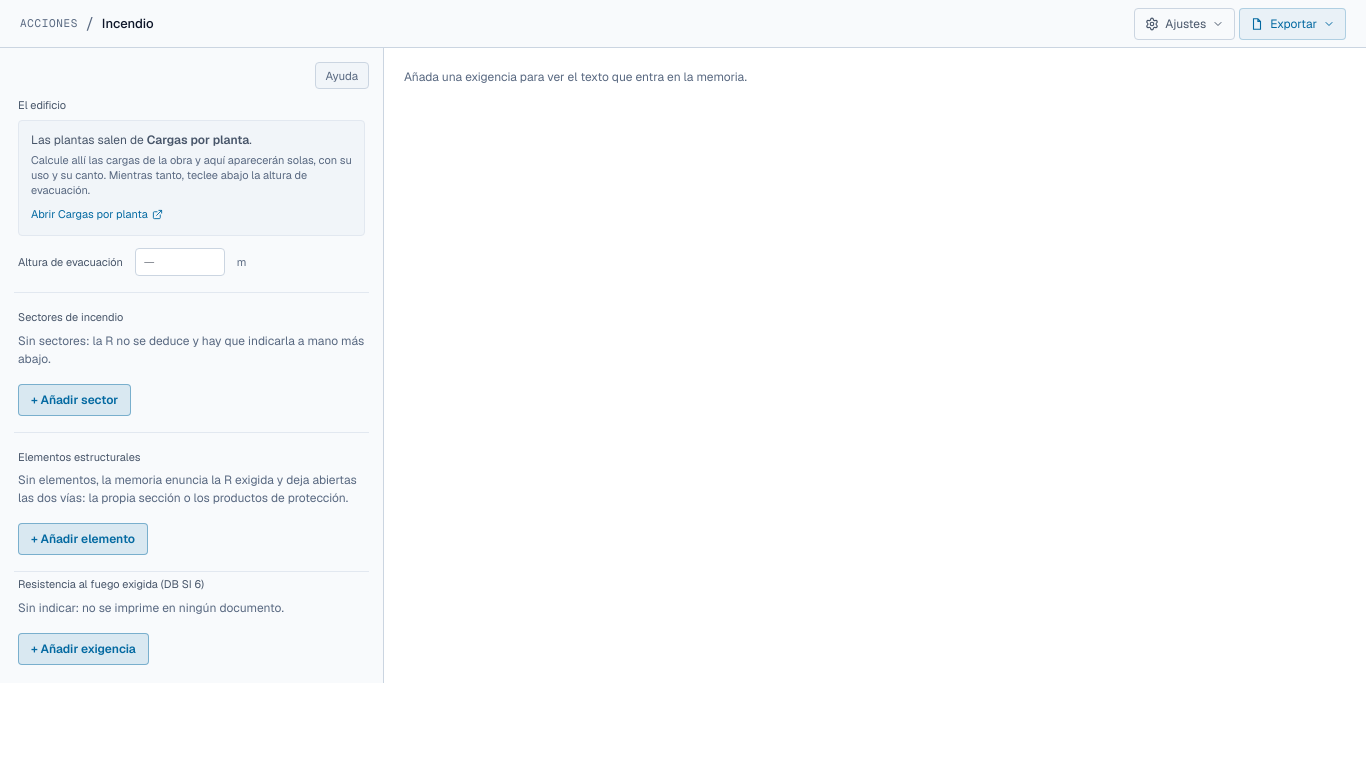
Test: las exigencias de resistencia al fuego › el sótano, las plantas y la cubierta pueden pedir R distintas a la vez
Step 1. Click the button "+ Añadir exigencia" → {"x": 83, "y": 649}, box 18,633 -> 149,665
(page scrolled)
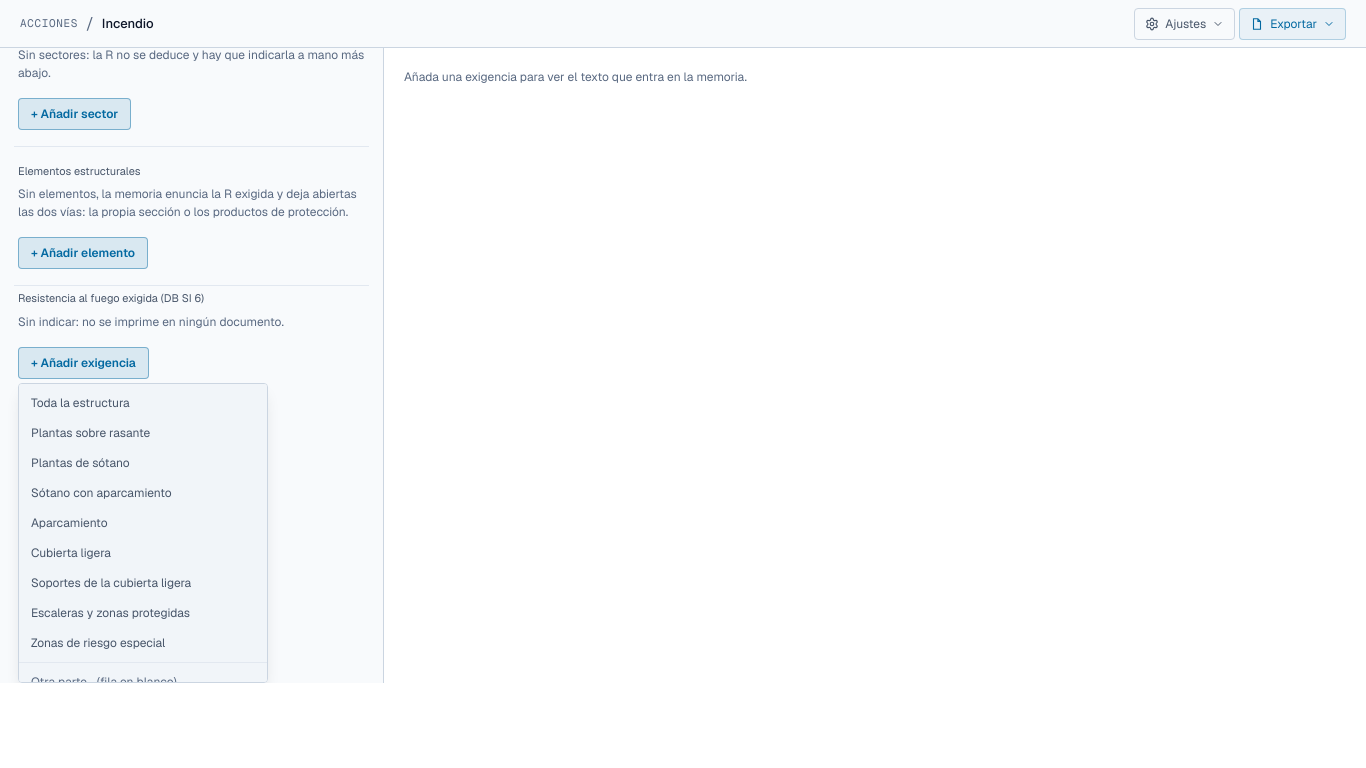
Step 2. Click the menu item "Sótano con aparcamiento" → {"x": 143, "y": 493}, box 19,478 -> 267,508
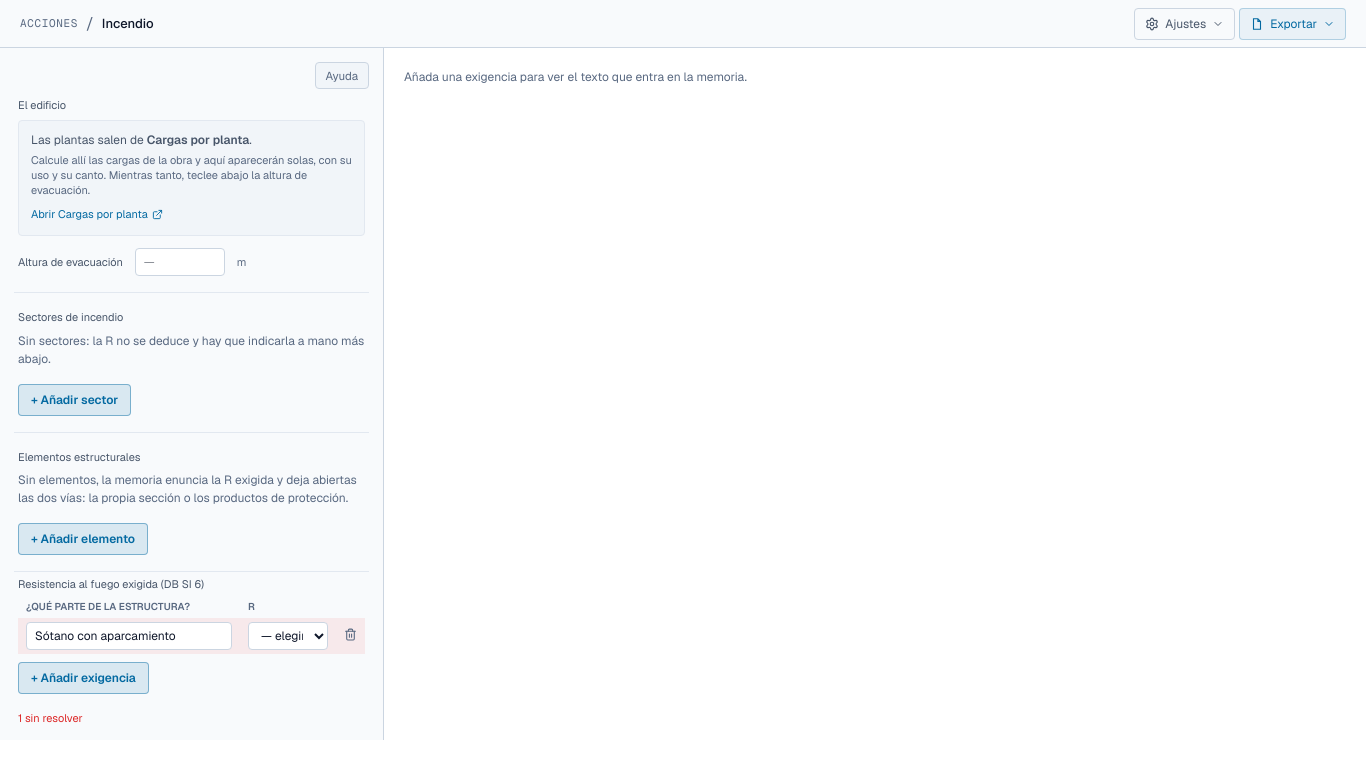
Step 3. Select "R120" in the dropdown named "Resistencia al fuego de Sótano con aparcamiento" → {"x": 288, "y": 636}, box 248,622 -> 328,650
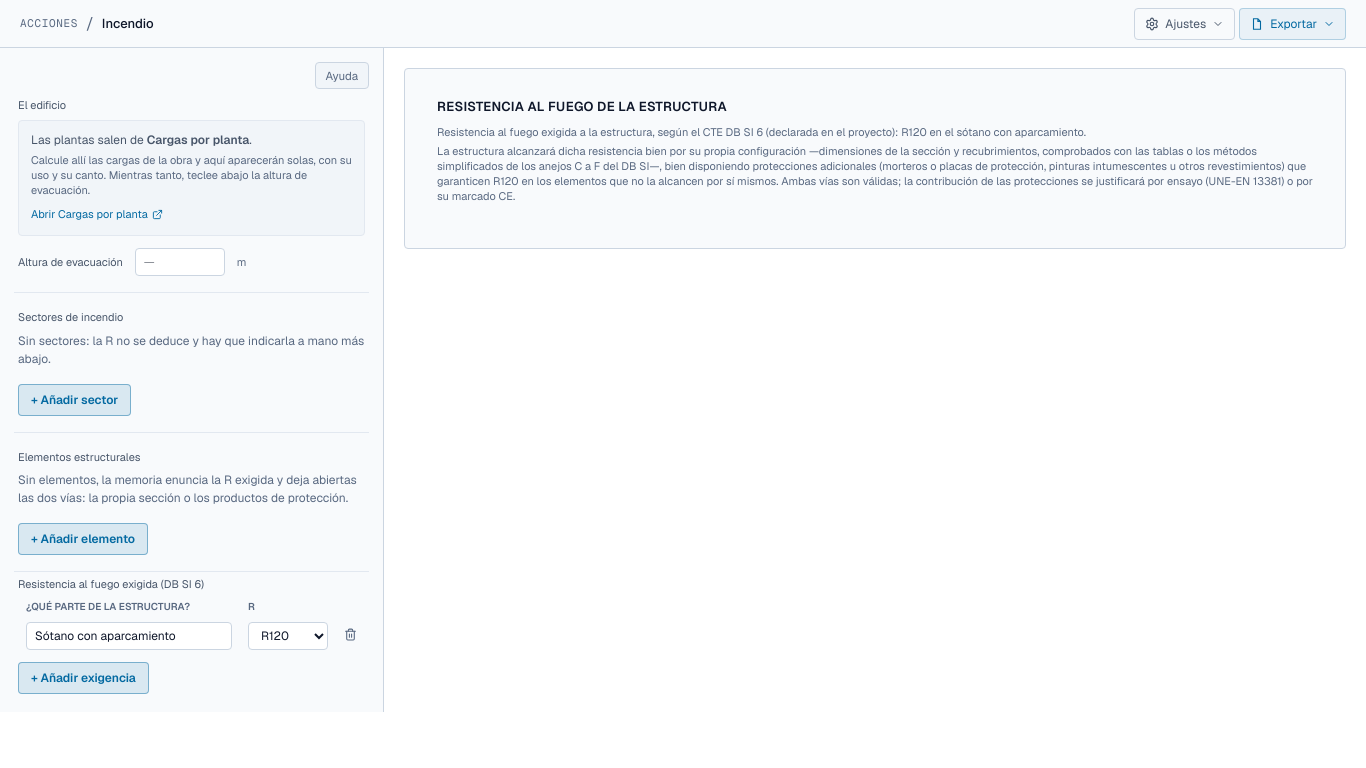
Step 4. Click the button "+ Añadir exigencia" → {"x": 83, "y": 678}, box 18,662 -> 149,694
(page scrolled)
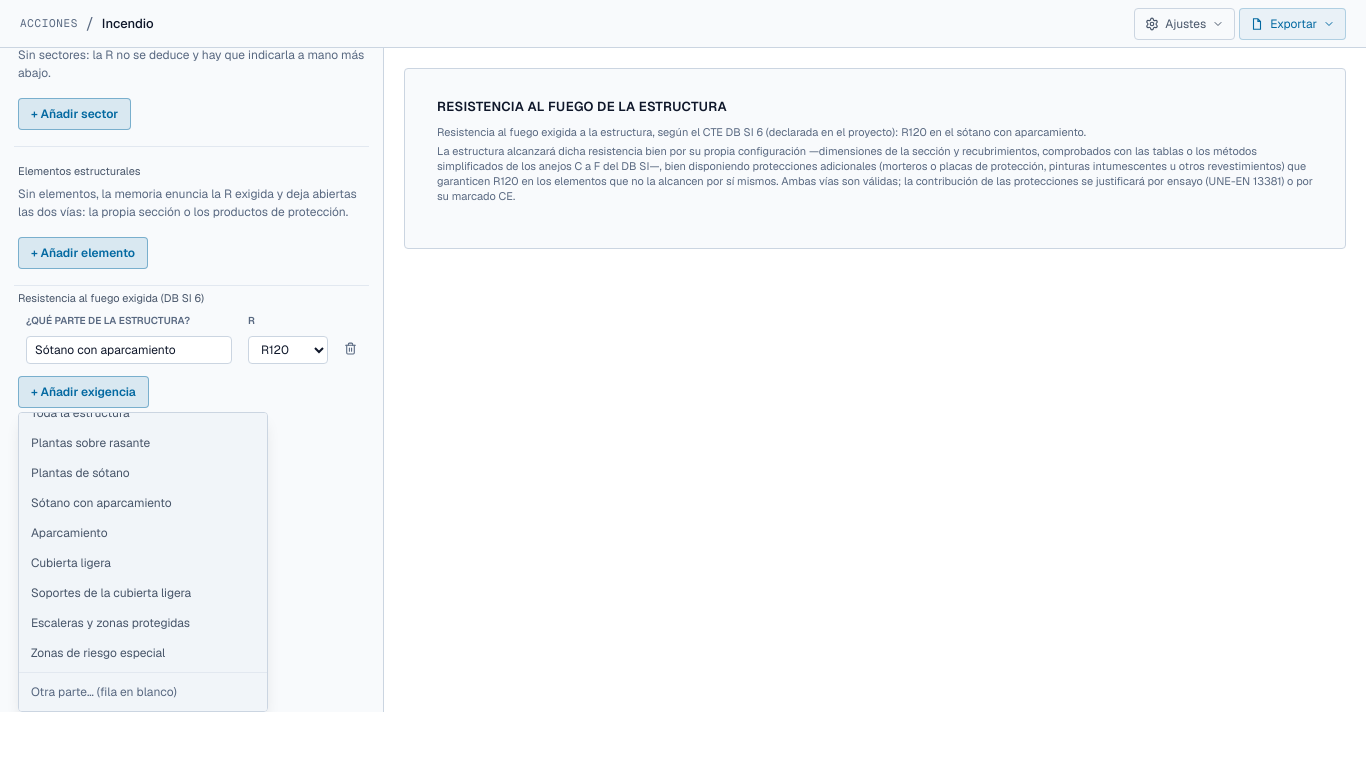
Step 5. Click the menu item "Cubierta ligera" → {"x": 143, "y": 563}, box 19,548 -> 267,578
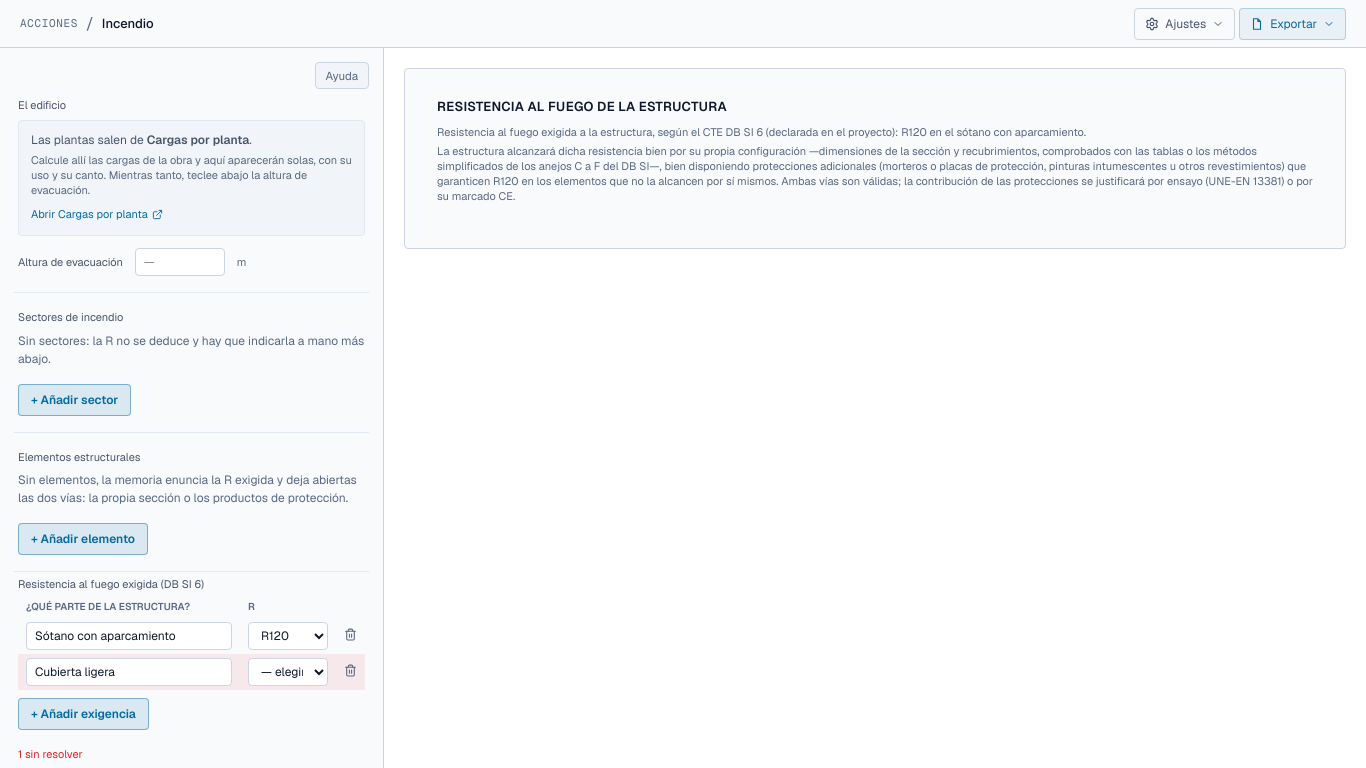
Step 6. Select "R30" in the dropdown named "Resistencia al fuego de Cubierta ligera" → {"x": 288, "y": 672}, box 248,658 -> 328,686
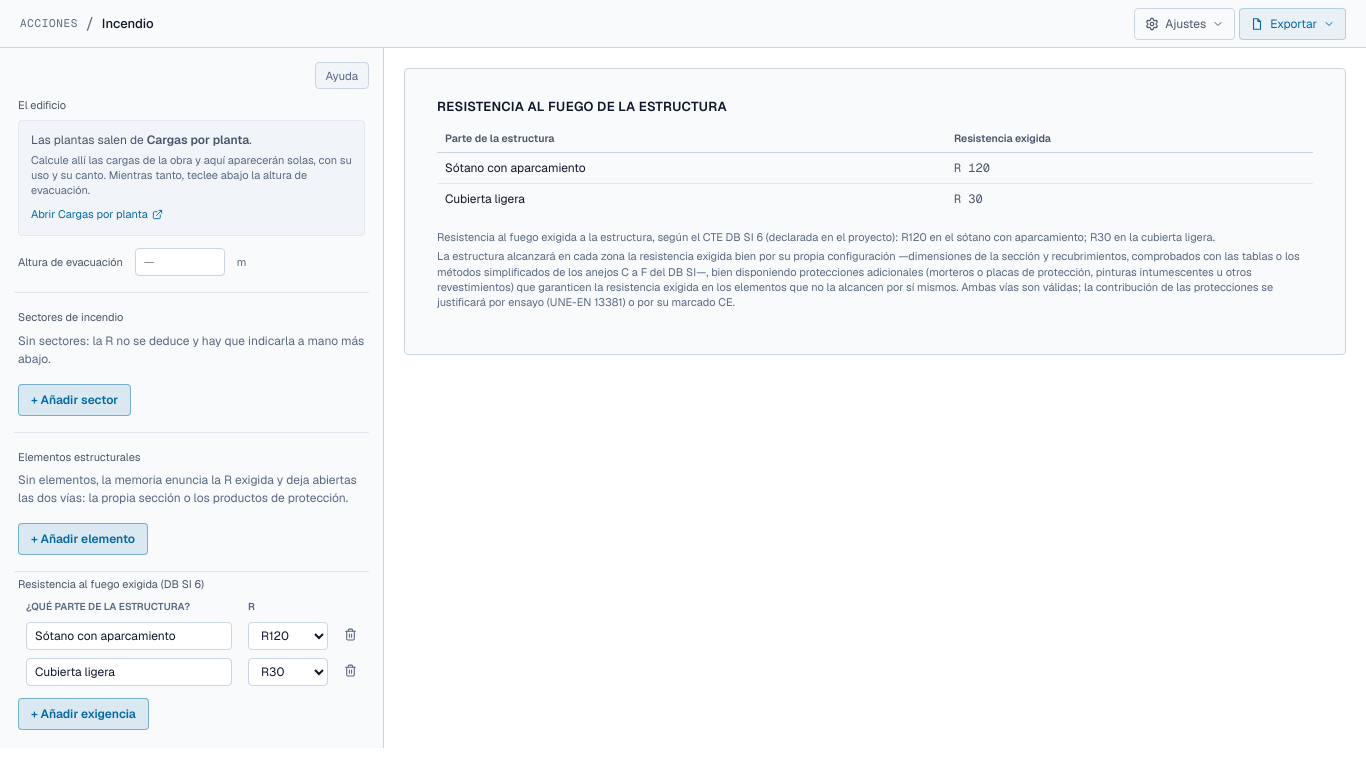
Now the list item "R120 en el sótano con aparcamiento; R30 en la cubierta ligera" is shown, box 437,230 -> 1215,244
